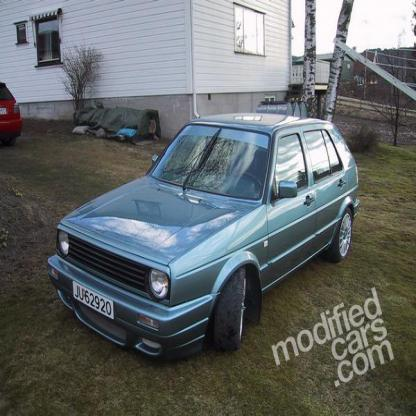Vehicle: (46, 114, 362, 365)
